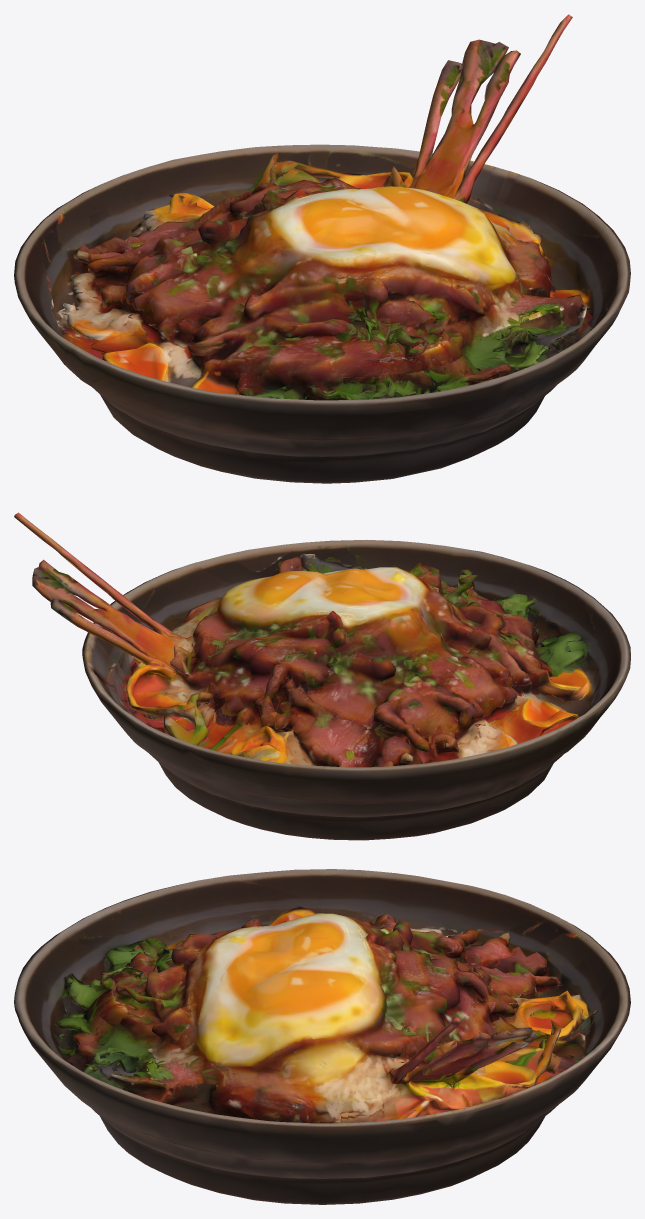
The model's file is image-to-3d-2.glb.
The picture shows the model from 3 angles, top to bottom: view 1: azimuth 30°, elevation 25°; view 2: azimuth 150°, elevation 25°; view 3: azimuth 270°, elevation 25°; orthographic projection. The views are drawn at different scales.
Bounding box in the file's own units: 2 × 0.8299 × 1.84.
Materials: 1 (1 with a texture image).
